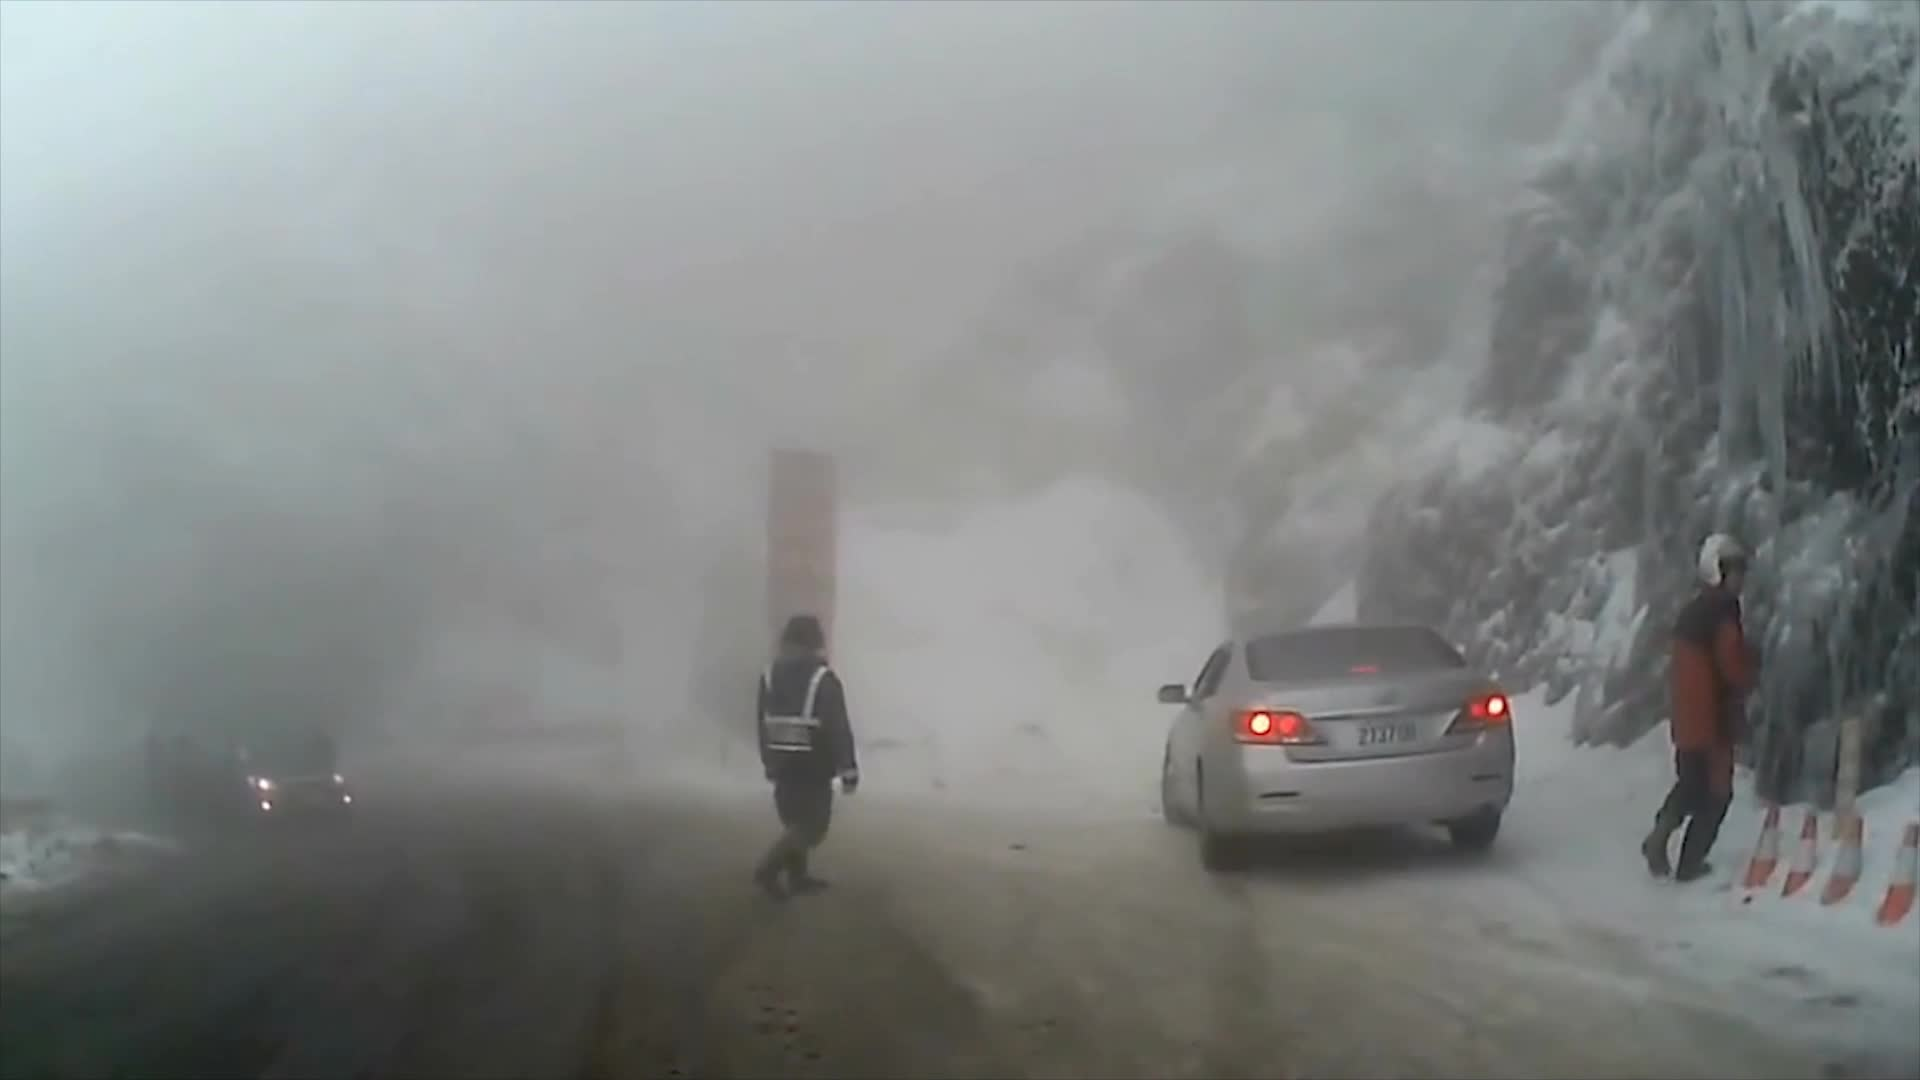pedestrian: (1641, 535, 1771, 886), (755, 616, 862, 906)
vehicle: (1155, 622, 1512, 875)
